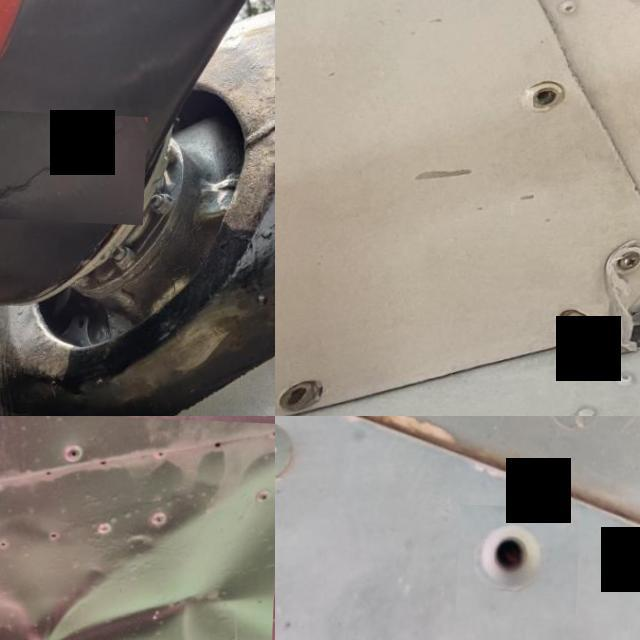Crack: (0, 107, 148, 221)
Dent: (0, 416, 275, 640)
Missing_Fastener: (460, 502, 584, 616), (275, 376, 332, 415), (560, 301, 608, 347), (528, 76, 570, 113)
